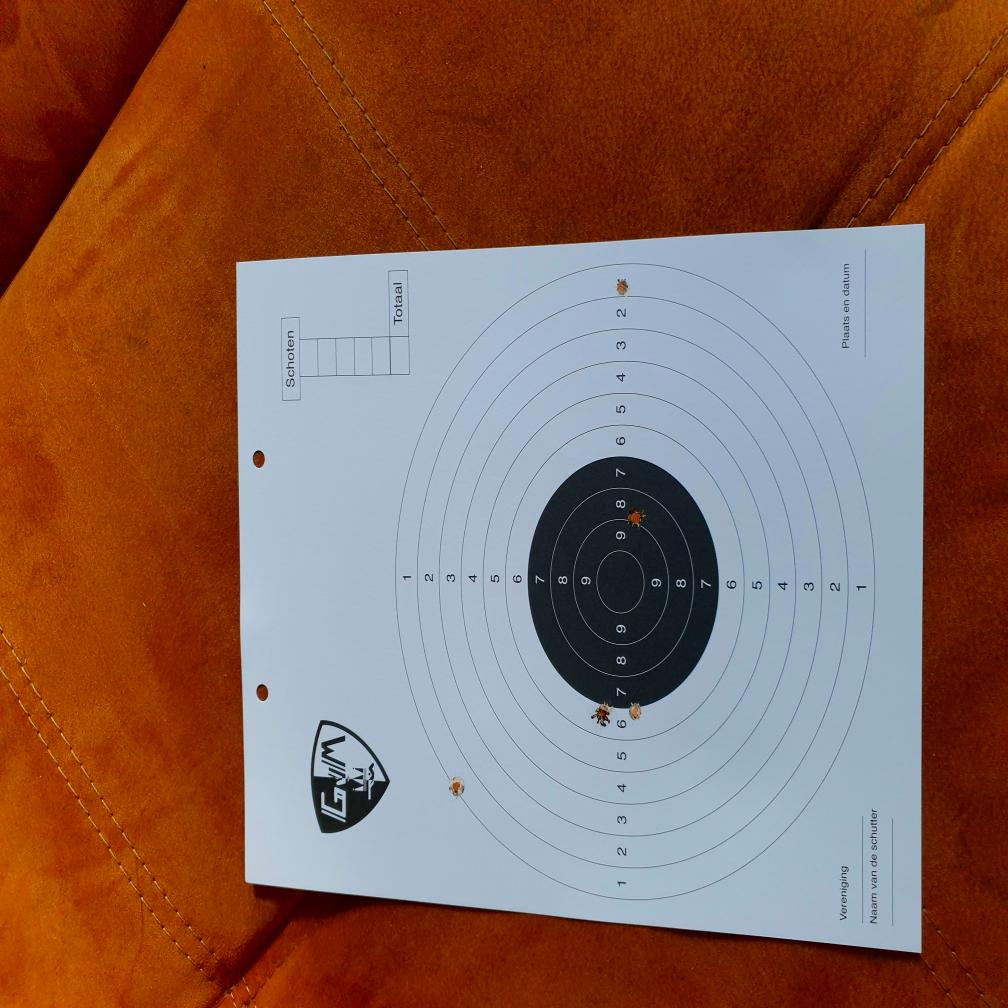1: (448, 776, 465, 798)
2: (613, 277, 630, 301)
7: (591, 702, 613, 727), (629, 702, 644, 721)
9: (627, 506, 646, 530)
Target: (396, 258, 875, 900)
black_contour: (528, 455, 719, 708)
